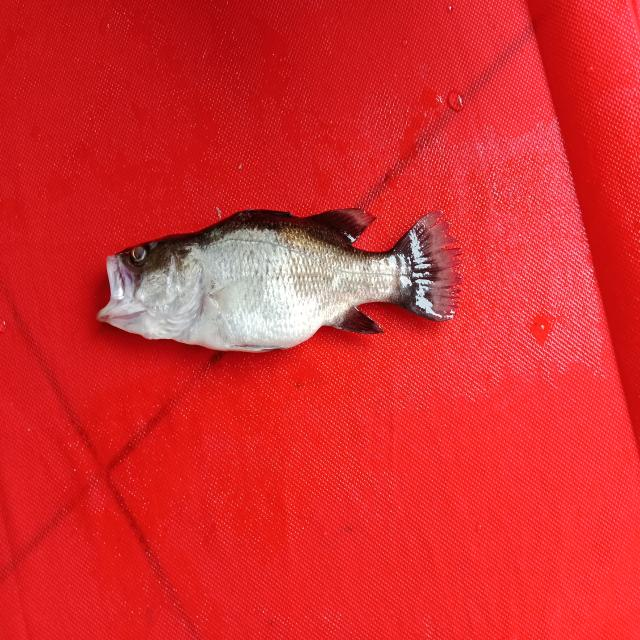ikan: (86, 192, 464, 372)
